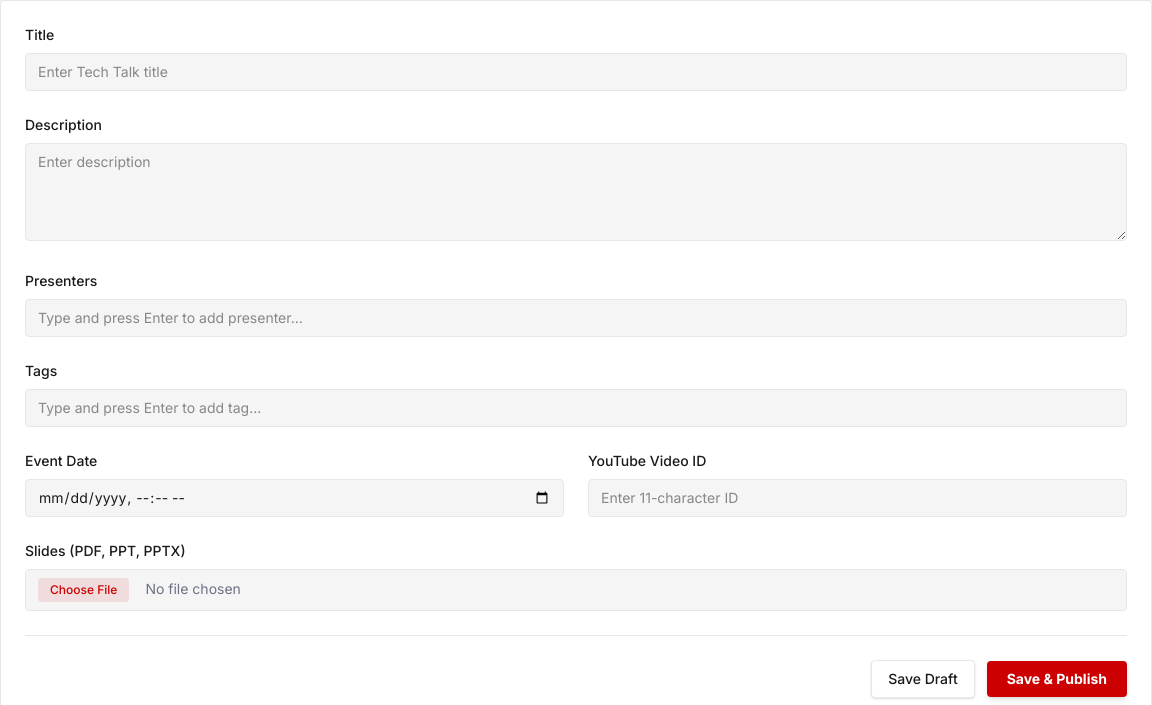
Test: TechTalkForm field-level validation display › clears a field error once the user edits that field
Click the button "Save Draft" at (923, 679), box [871,660,975,698]
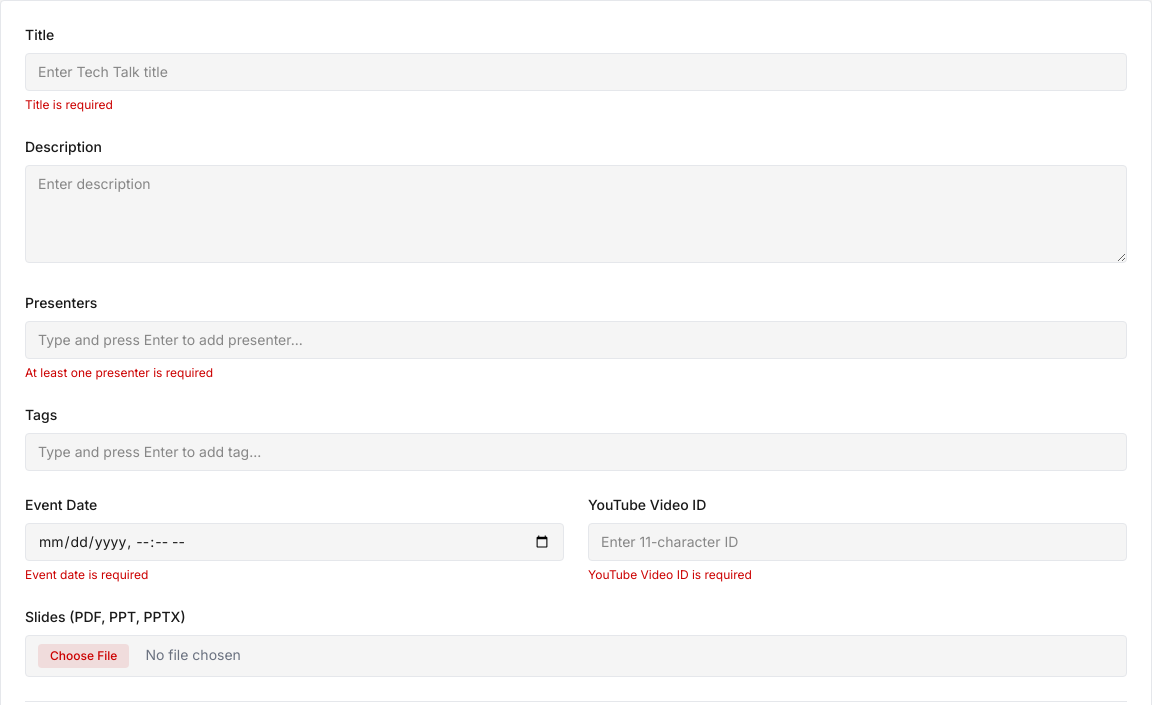
Result: the text "Title is required" is shown at [25,97,113,112]
Type "New title" into the field labelled "Title" at (576, 72), box [25,53,1127,91]
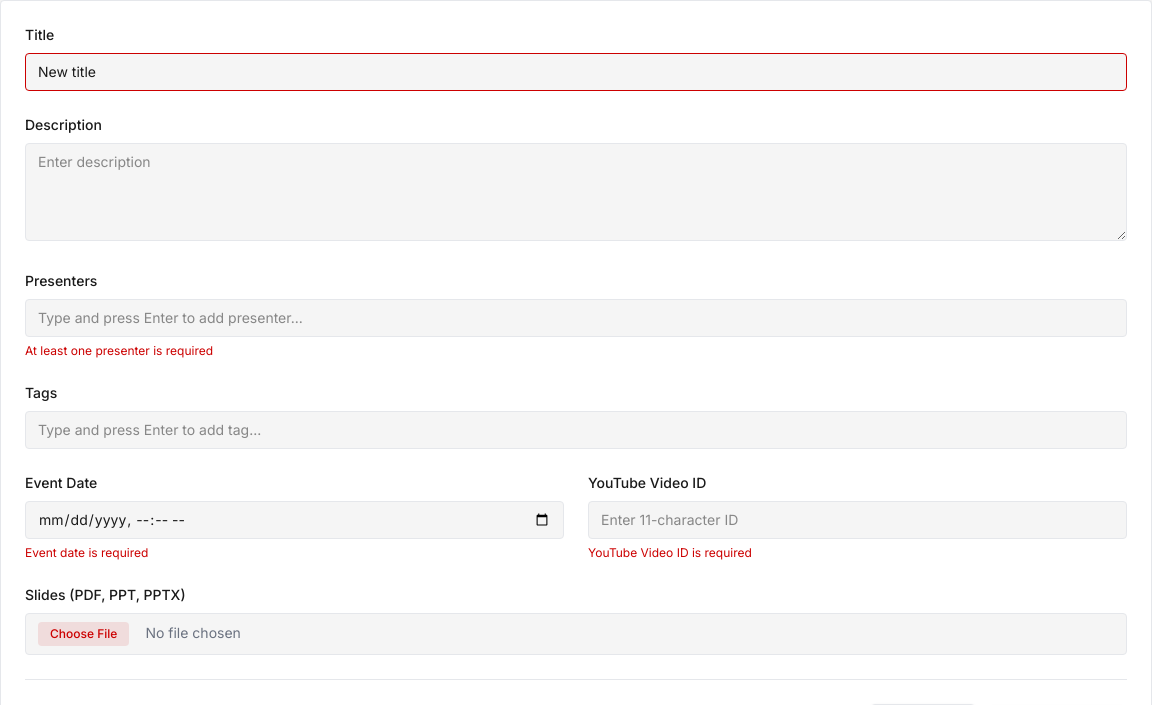
Result: the text "At least one presenter is required" is shown at [25,343,213,358]
Result: the text with test id "title-error" is gone
